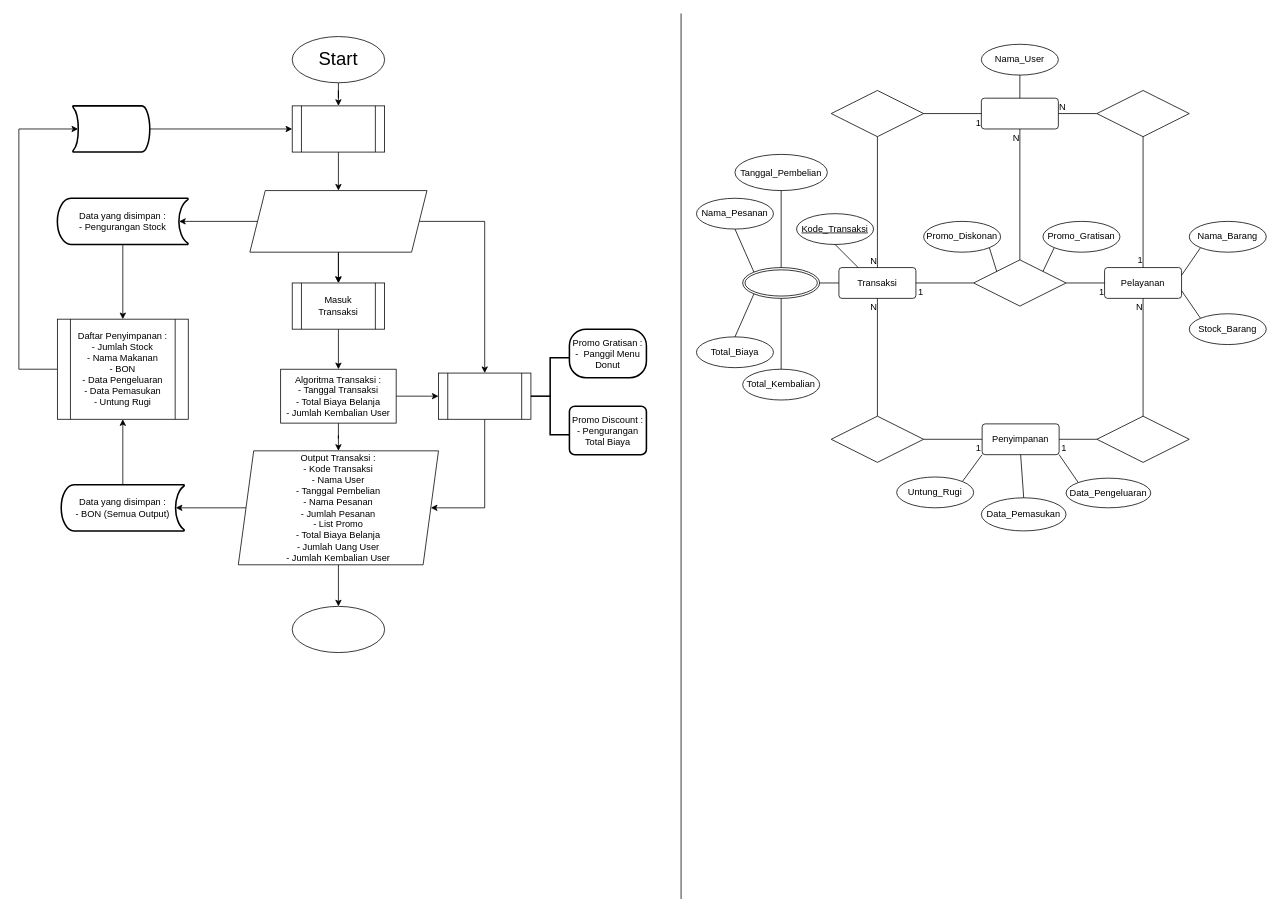
This 1280x913 diagram has some shape labels left out. The shapes that lost their labels are listed below. From the top down, each one's centre as x and y in pixels, then its label:
the point at 111,128: Update Data Stock
the point at 338,128: Tampilan Pelayanan
the point at 877,113: Melakukan
the point at 1019,113: User
the point at 1142,113: Mengakses
the point at 338,221: Input User : - Nama - Nama Pesanan - Jumlah Pesanan -Jumlah Uang
the point at 781,282: BON
the point at 1019,282: Promo
the point at 484,395: List Promo
the point at 877,438: Simpan
the point at 1142,438: Update
the point at 338,629: EXIT
